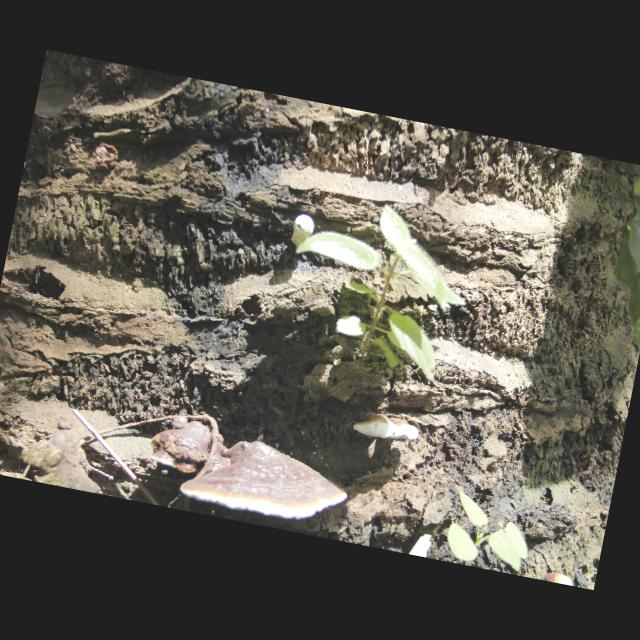ganoderma: (178, 429, 355, 533), (146, 412, 228, 482), (352, 410, 423, 448)
primordium: (291, 215, 318, 250)
